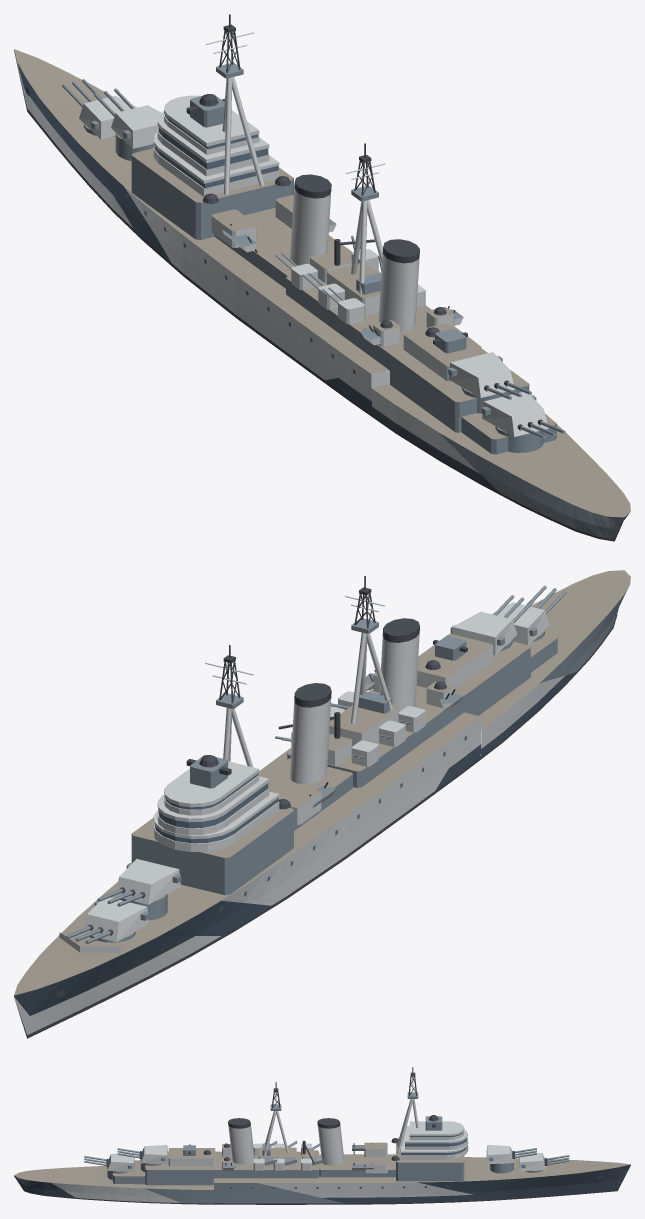
File: london-hms-belfast.glb
The picture shows the model from 3 angles, top to bottom: view 1: azimuth 30°, elevation 25°; view 2: azimuth 150°, elevation 25°; view 3: azimuth 270°, elevation 25°; orthographic projection. The views are drawn at different scales.
Parts seen in each view (by area): view 1: HMS Belfast; view 2: HMS Belfast; view 3: HMS Belfast.
Part boxes in pixels (left/top/right/bottom): HMS Belfast: left=14, top=14, right=630, bottom=541; HMS Belfast: left=14, top=570, right=630, bottom=1038; HMS Belfast: left=14, top=1067, right=630, bottom=1204.
Size of the model in its own units: 19.6 by 41 by 185.
